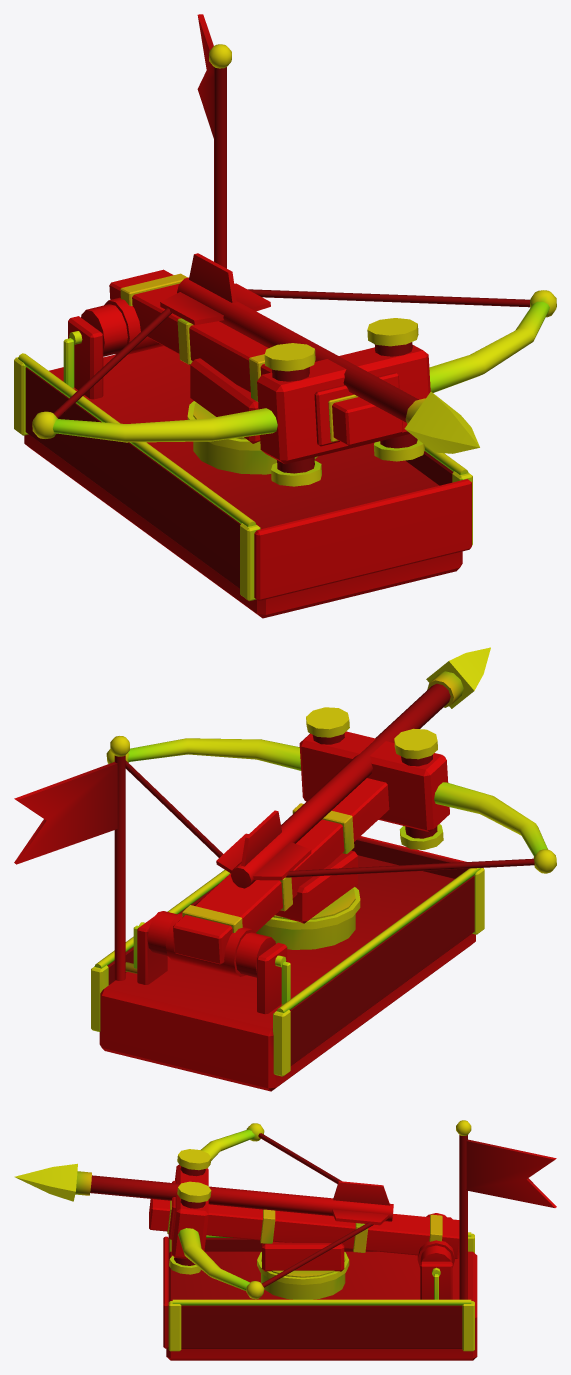
The model's file is Ballista.glb.
3 renders of one model, top to bottom at view 1: azimuth 30°, elevation 25°; view 2: azimuth 150°, elevation 25°; view 3: azimuth 270°, elevation 25°, orthographic. The views are drawn at different scales.
Parts seen in each view (by area): view 1: Ballista; view 2: Ballista; view 3: Ballista.
Part boxes in pixels (left/top/right/bottom): Ballista: left=14, top=14, right=556, bottom=618; Ballista: left=14, top=647, right=556, bottom=1091; Ballista: left=14, top=1120, right=556, bottom=1360.
Bounding box in the file's own units: 3.61 × 2.41 × 5.02.
